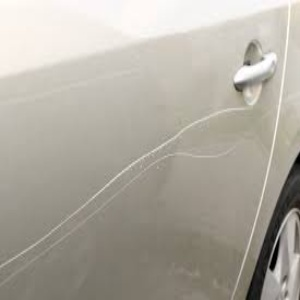door_scratch: (11, 97, 239, 283)
